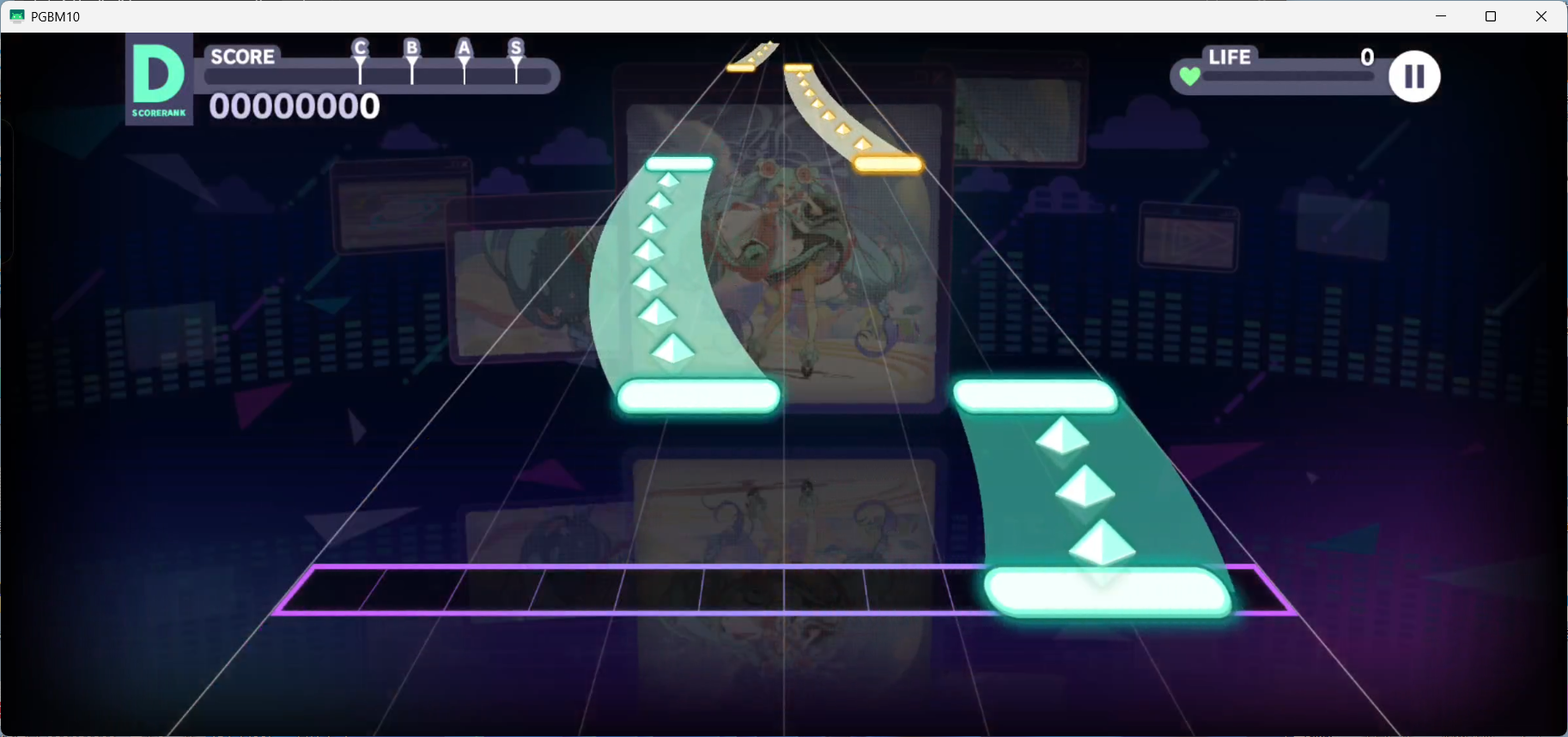hold: (957, 417, 1227, 569), (588, 174, 767, 378), (783, 72, 904, 154), (734, 43, 779, 64)
sweep: (1068, 520, 1135, 588), (1055, 465, 1116, 525), (1036, 417, 1088, 473), (652, 333, 695, 378), (637, 299, 678, 336), (630, 268, 668, 299), (631, 240, 663, 269), (638, 215, 665, 243), (647, 191, 672, 217), (656, 172, 680, 196), (854, 137, 872, 154), (835, 124, 851, 140), (821, 111, 836, 124), (812, 99, 824, 111), (799, 80, 809, 89), (805, 90, 815, 99), (795, 71, 805, 79), (747, 57, 755, 63), (767, 40, 774, 46), (762, 45, 768, 51), (757, 51, 763, 57)
tap: (985, 568, 1231, 618), (953, 378, 1121, 417), (615, 379, 781, 415), (853, 154, 922, 175), (645, 154, 713, 174), (725, 63, 755, 72), (783, 63, 811, 71)
